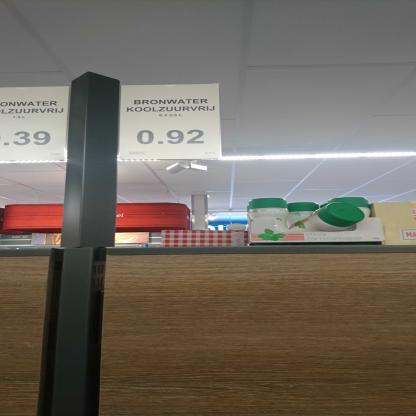prtg: (120, 84, 222, 161), (1, 86, 72, 163)
